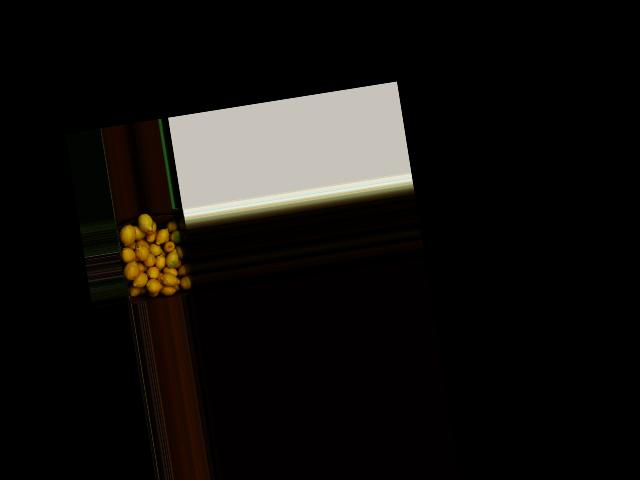lemon: (149, 243, 163, 256)
